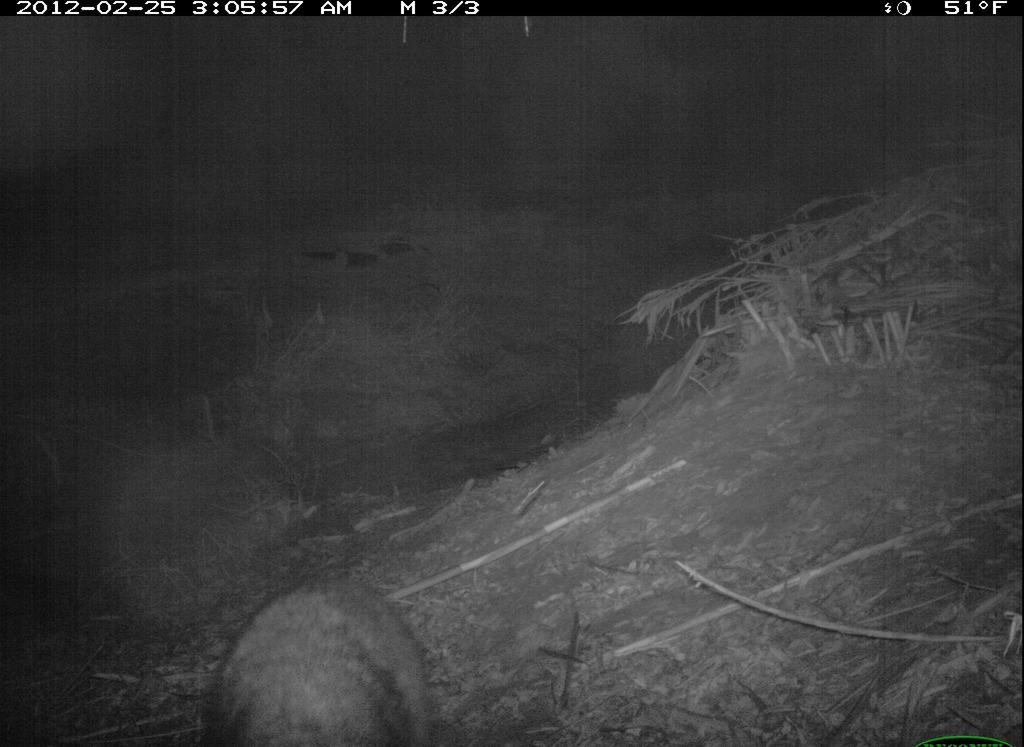raccoon: (196, 570, 452, 747)
